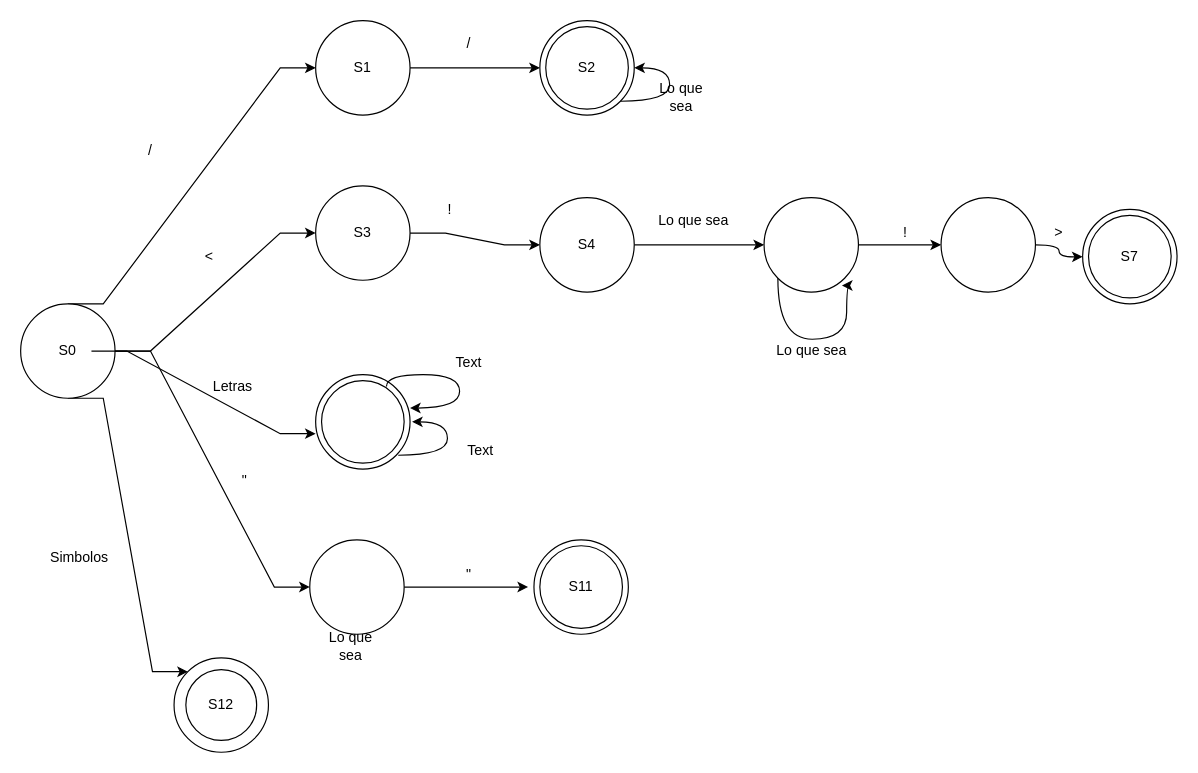
Some shapes in this 1198 by 773 pixel diagram are drawn without their labels. Here are the shapes that lost their labels. From the top down, the centre of each, then its label:
At pixel 810 244: "S5".
At pixel 987 244: "S6".
At pixel 362 421: "S9".
At pixel 356 586: "S10".
